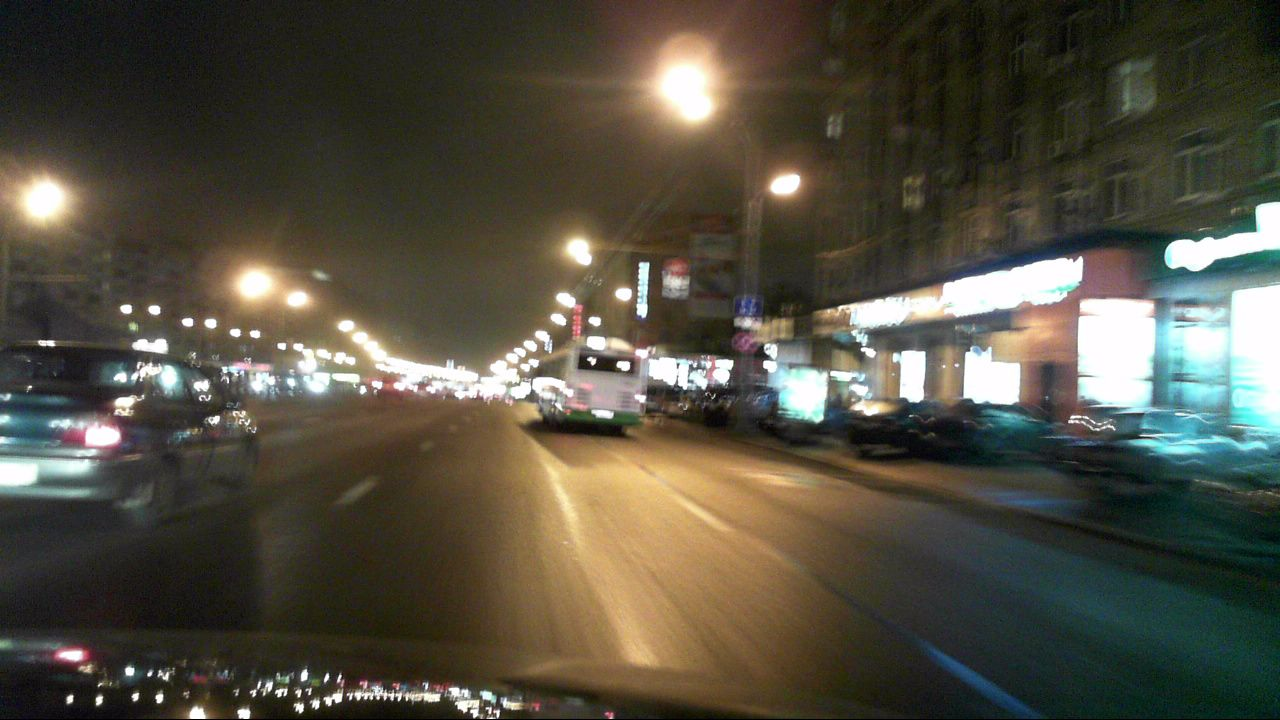No Parking: (731, 332, 750, 352)
